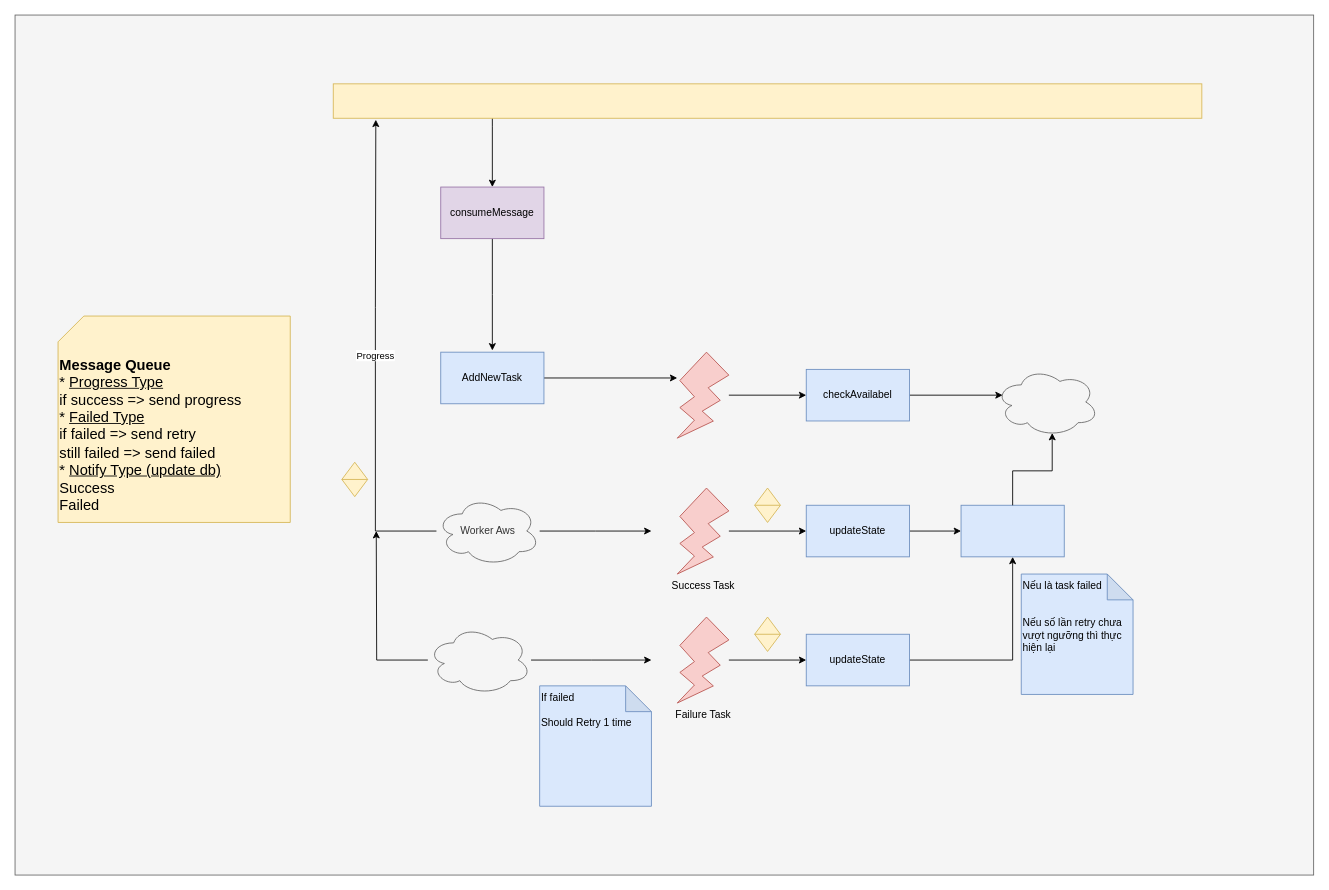
Image size: 1329x890. Some labels were removed from this diagram. Each missing label, with the centre of its shape:
"checkAvaiTask" goes at point (1012, 530).
"Fork New Child" goes at point (1047, 401).
"Message Queue" goes at point (767, 100).
"New Task" goes at point (702, 394).
"Worker Google" goes at point (479, 659).
